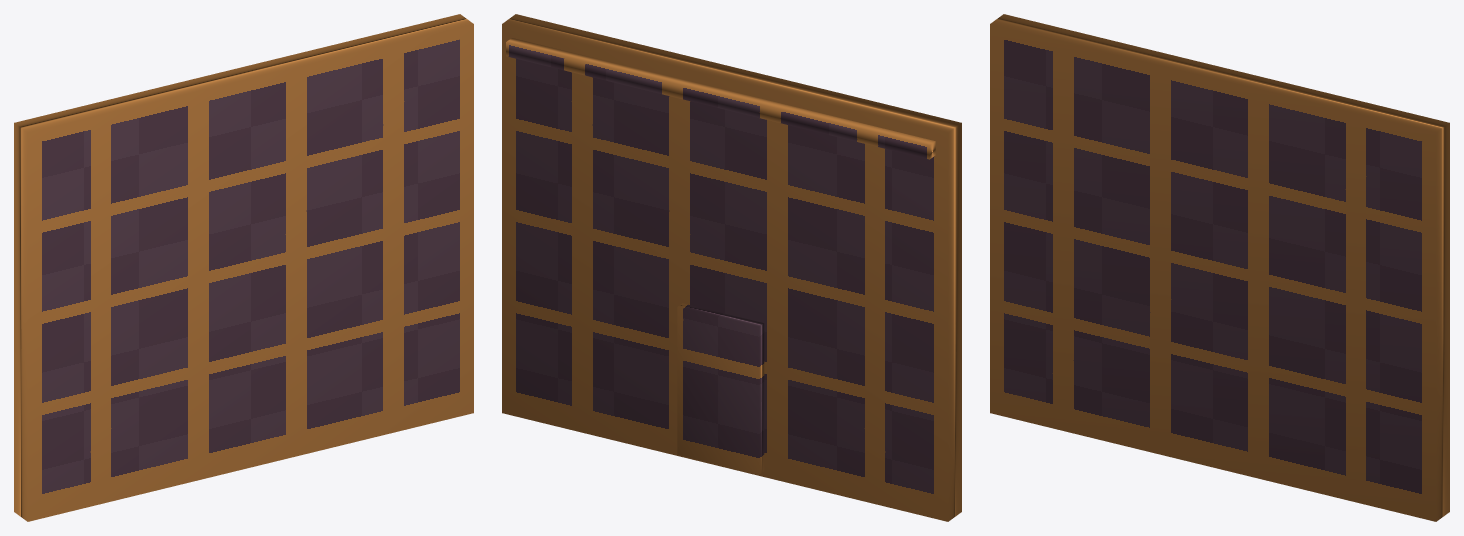
The model's file is SM_Env_CairoFacade_B_LOD2.obj.
3 renders of one model, left to right at view 1: azimuth 30°, elevation 25°; view 2: azimuth 150°, elevation 25°; view 3: azimuth 330°, elevation 25°, orthographic.
Visible parts, largest first — view 1: SM_Env_CairoFacade_B_LOD2; view 2: SM_Env_CairoFacade_B_LOD2; view 3: SM_Env_CairoFacade_B_LOD2.
Part boxes in pixels (box(x1,y1,x2,y2)): SM_Env_CairoFacade_B_LOD2: box(14, 14, 473, 521); SM_Env_CairoFacade_B_LOD2: box(502, 14, 961, 521); SM_Env_CairoFacade_B_LOD2: box(990, 14, 1449, 521).
Size of the model in its own units: 6 by 5 by 0.49.
Materials: 1 (1 with a texture image).
